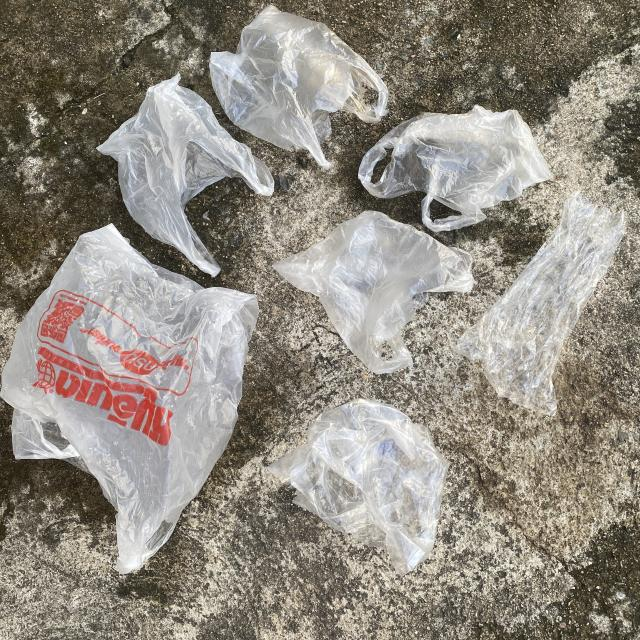Single-layer Plastic: (1, 225, 258, 572), (456, 194, 626, 415), (96, 75, 274, 276), (274, 211, 474, 374), (269, 400, 449, 575), (210, 5, 389, 169), (359, 105, 552, 231)
